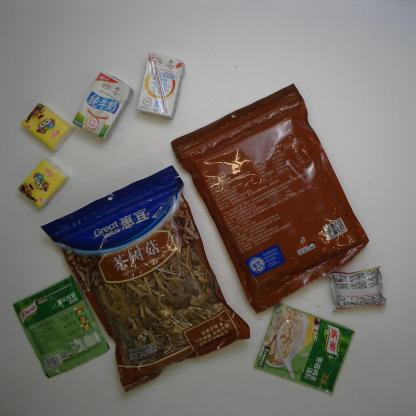Dessert: (327, 266, 387, 314)
Dried Food: (38, 165, 253, 394), (168, 82, 372, 316)
Milk: (72, 71, 134, 141), (136, 51, 186, 120)
Seasoner: (11, 274, 110, 380), (253, 302, 356, 396)
Tissue: (17, 157, 70, 210), (20, 102, 74, 153)
